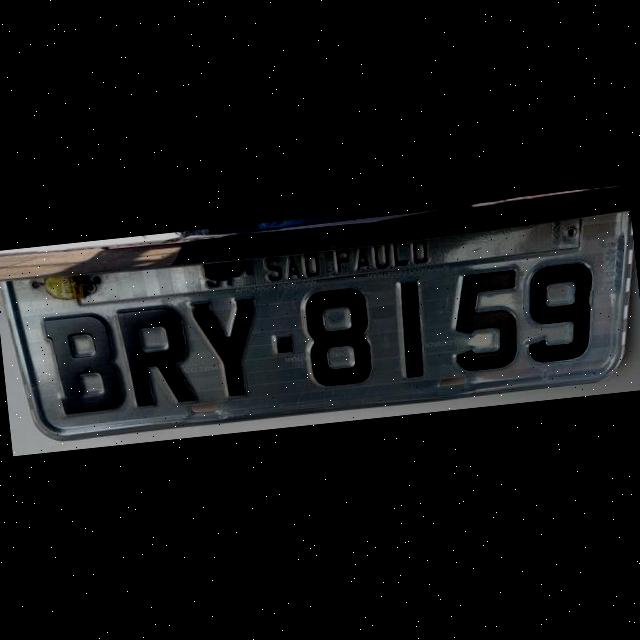Caractere: (38, 304, 132, 418), (114, 298, 200, 412), (185, 286, 267, 404), (517, 253, 603, 363), (446, 260, 528, 372), (298, 282, 377, 391), (392, 276, 430, 378)
Placa: (0, 200, 640, 446)
